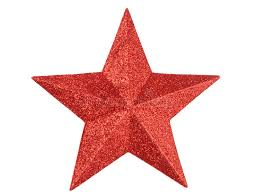star: (28, 5, 225, 190)
